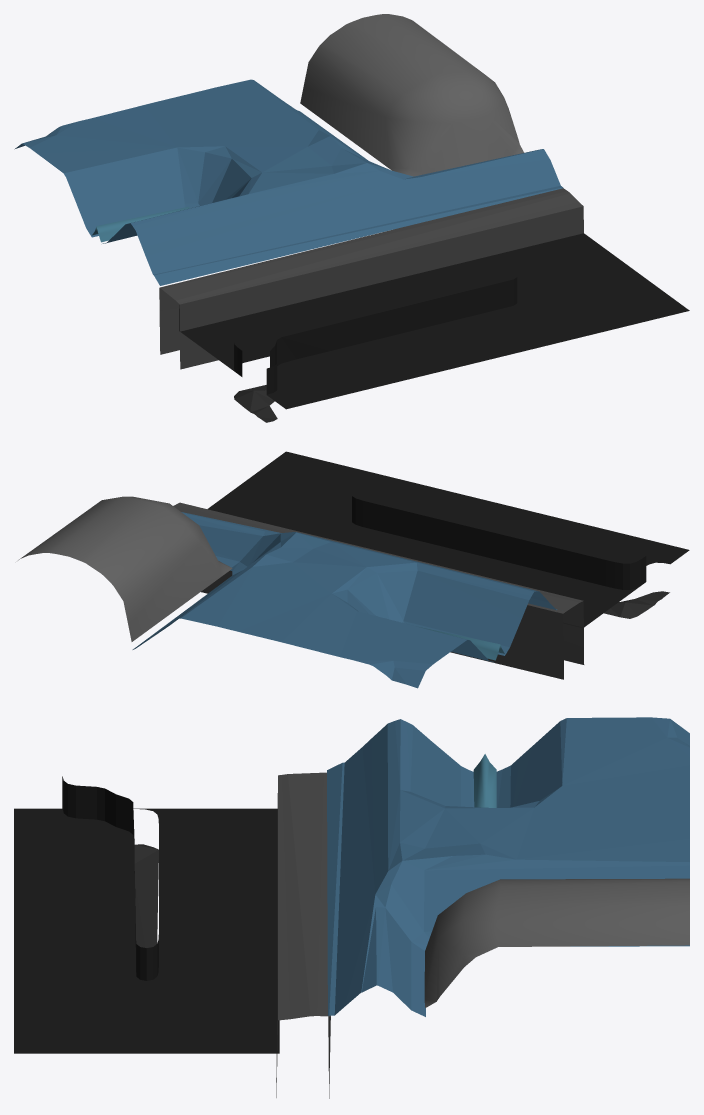
The model's file is newsho-41.glb.
3 views of the same model, one above another, from view 1: azimuth 30°, elevation 25°; view 2: azimuth 150°, elevation 25°; view 3: azimuth 270°, elevation 25° (orthographic). The views are drawn at different scales.
Parts seen in each view (by area): view 1: newsho-41; view 2: newsho-41; view 3: newsho-41.
Part boxes in pixels (x1,y1,x2,y2): newsho-41: (14,14,689,422); newsho-41: (18,451,689,688); newsho-41: (14,717,689,1098).
Bounding box in the file's own units: 2 × 0.6864 × 2.33.
